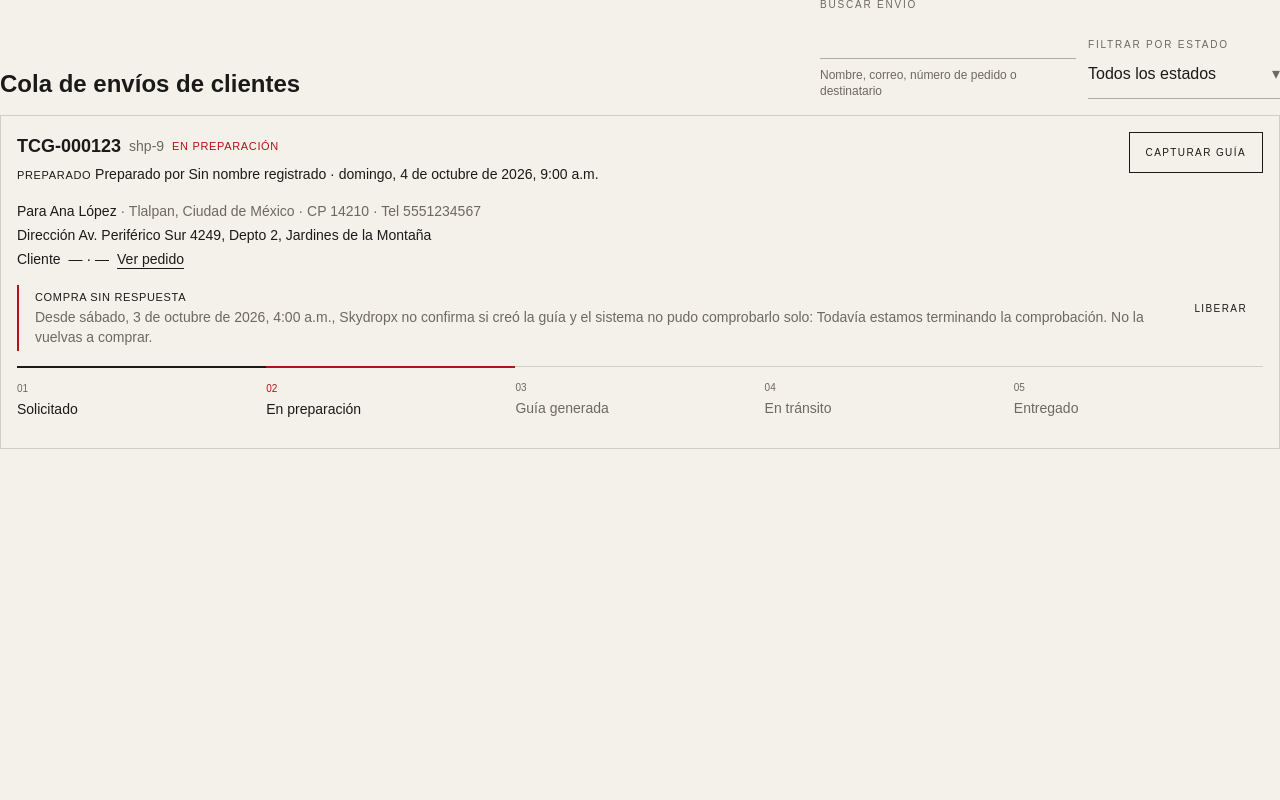
Test case: UX-SDX-16 · «Liberar» ⇔ canRelease (⛔ nunca por el rol) › 409 LABEL_NOT_RELEASABLE too_early ⇒ minutos redondeados hacia arriba
Click the button "Liberar": coordinates (1221, 309) [1178,289,1263,329]
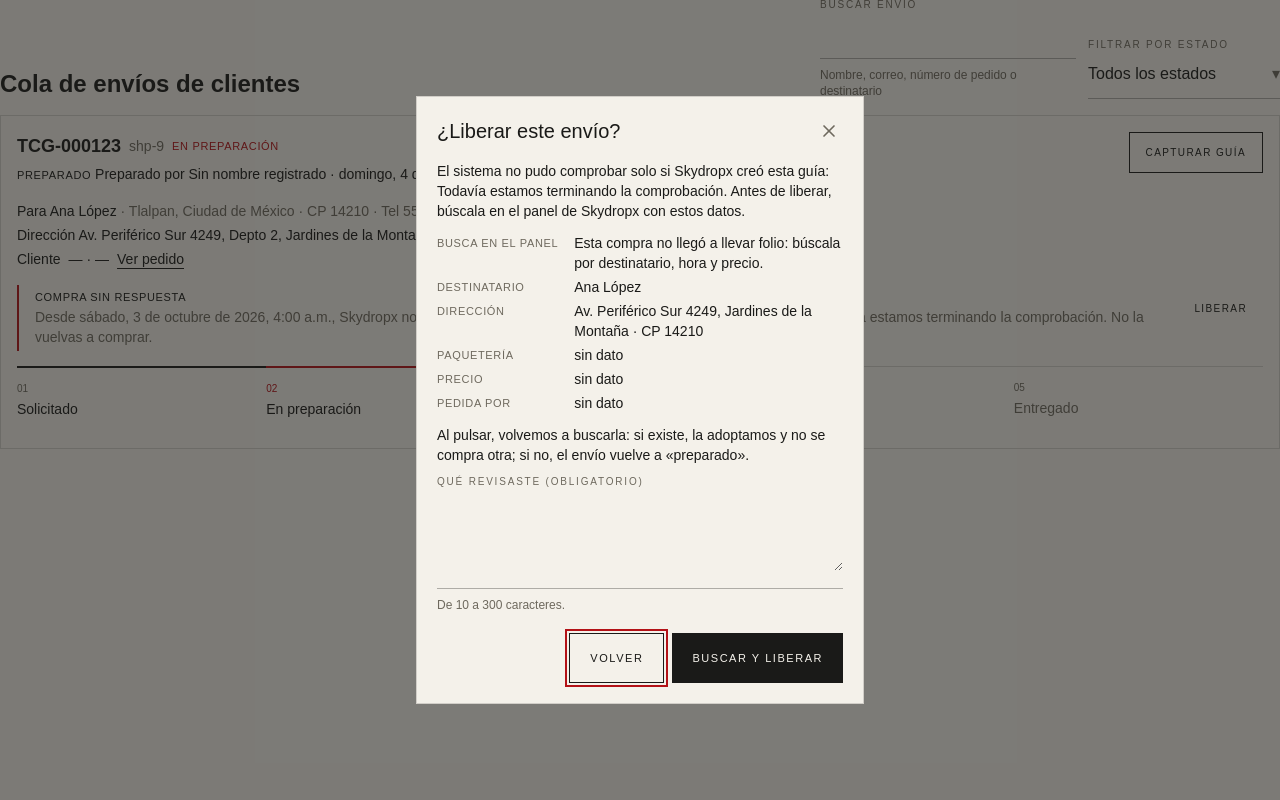
Click the button "Buscar y liberar": coordinates (758, 658) [672,633,843,683]
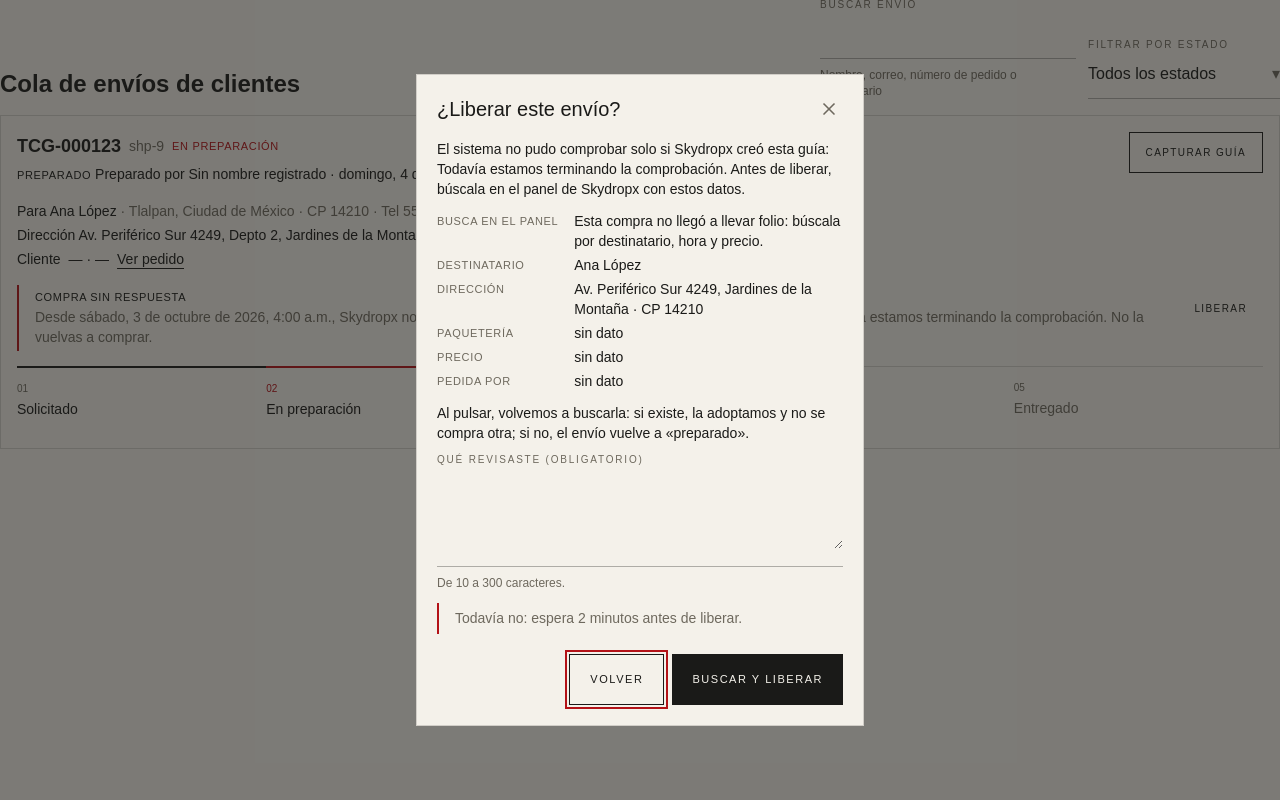
Now the text "Todavía no: espera 2 minutos antes de liberar." is shown, box [455,610,742,626]
